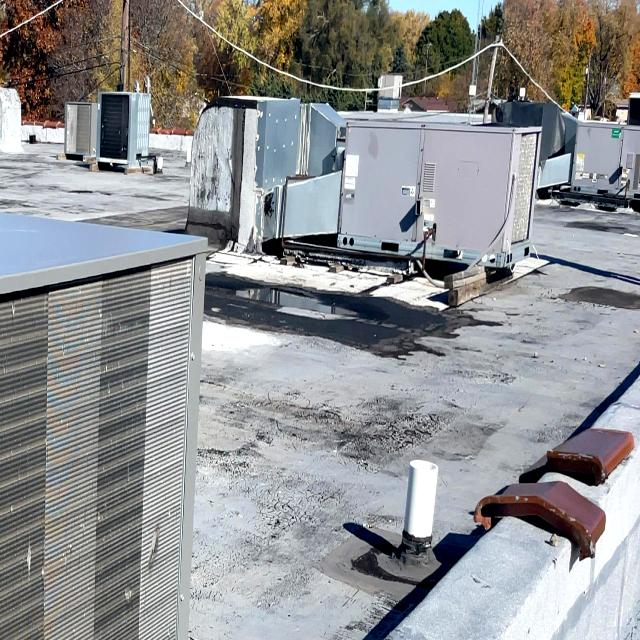RTU: (333, 98, 549, 278), (566, 123, 640, 197)
SPLIT-SYSTEM: (0, 194, 212, 640), (94, 80, 152, 174), (63, 98, 100, 162)
